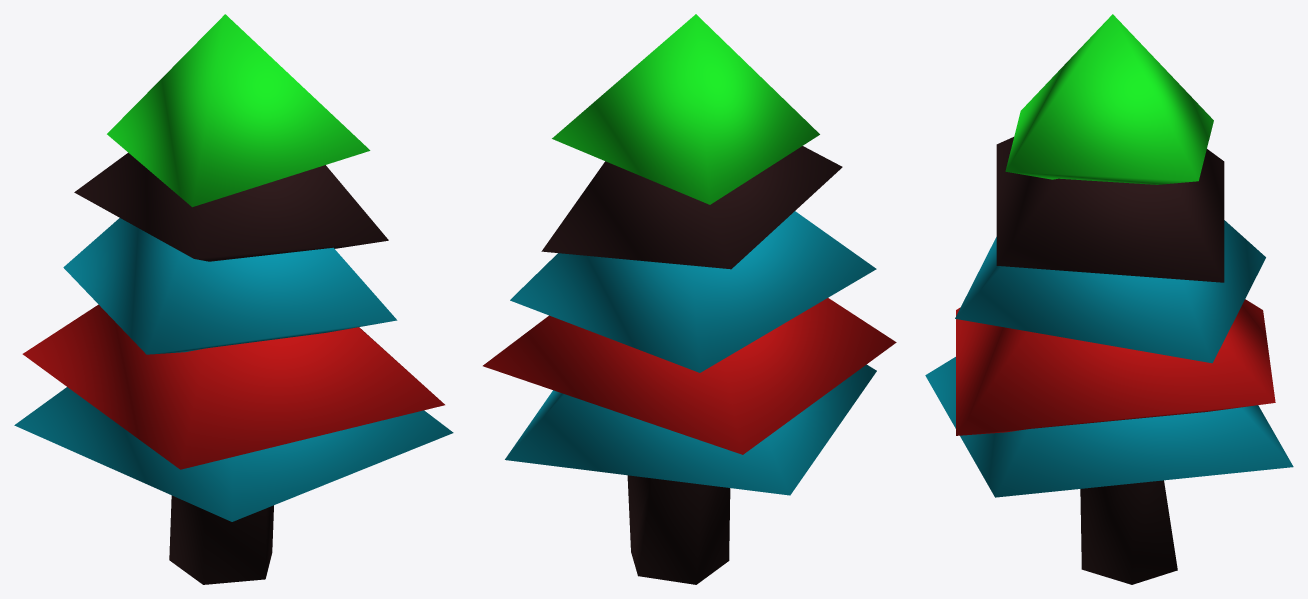
File: tree4.obj
3 renders of one model, left to right at view 1: azimuth 30°, elevation 25°; view 2: azimuth 150°, elevation 25°; view 3: azimuth 270°, elevation 25°, orthographic. The views are drawn at different scales.
Parts seen in each view (by area): view 1: Cylinder007; view 2: Cylinder007; view 3: Cylinder007.
Part boxes in pixels (box(x1,y1,x2,y2)): Cylinder007: box(14, 14, 453, 584); Cylinder007: box(483, 14, 896, 584); Cylinder007: box(925, 14, 1293, 584).
Size of the model in its own units: 49.11 by 81.54 by 50.07.
